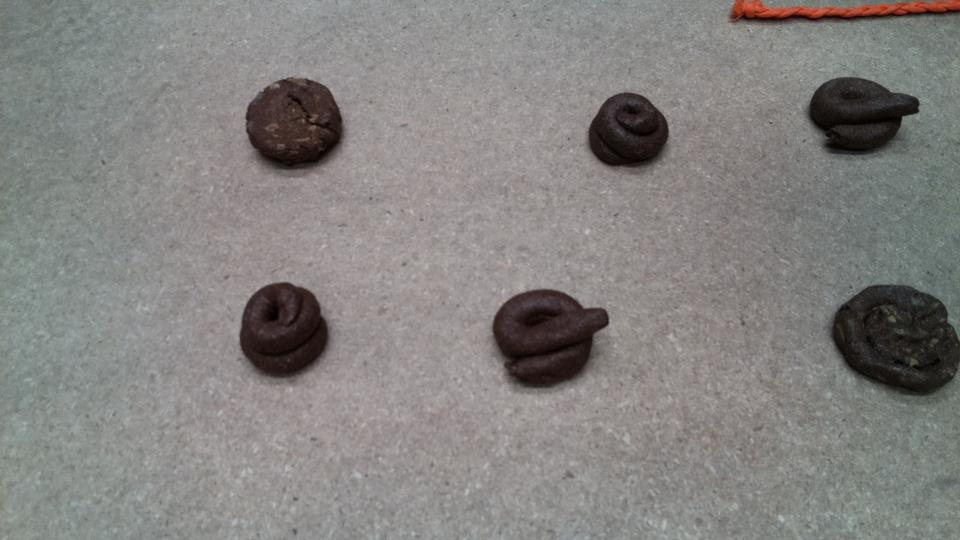poop: (829, 278, 960, 399), (489, 286, 613, 389), (242, 73, 347, 171), (237, 279, 333, 382), (806, 73, 923, 154), (585, 88, 672, 171)
rope: (725, 1, 960, 27)
